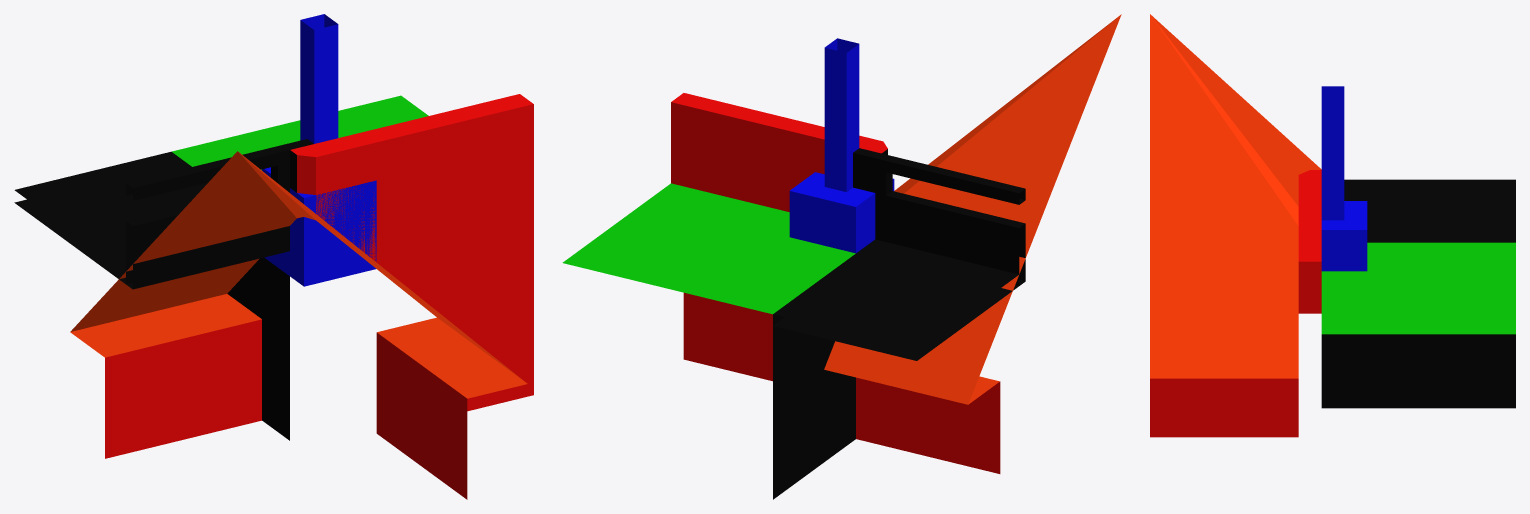
File: None_W_E_E_E_P_S_E_E_BigStrut.fbx
3 views of the same model, side by side, from view 1: azimuth 30°, elevation 25°; view 2: azimuth 150°, elevation 25°; view 3: azimuth 270°, elevation 25° (orthographic). The views are drawn at different scales.
Parts seen in each view (by area): view 1: None_W_E_E_E_P_S_E_E_BigStrut; view 2: None_W_E_E_E_P_S_E_E_BigStrut; view 3: None_W_E_E_E_P_S_E_E_BigStrut.
Boxes of the visible parts, x1=… form: None_W_E_E_E_P_S_E_E_BigStrut: x1=14, y1=14, x2=533, y2=499; None_W_E_E_E_P_S_E_E_BigStrut: x1=562, y1=14, x2=1121, y2=499; None_W_E_E_E_P_S_E_E_BigStrut: x1=1150, y1=14, x2=1515, y2=437.
Bounding box in the file's own units: 100 × 100 × 100.
